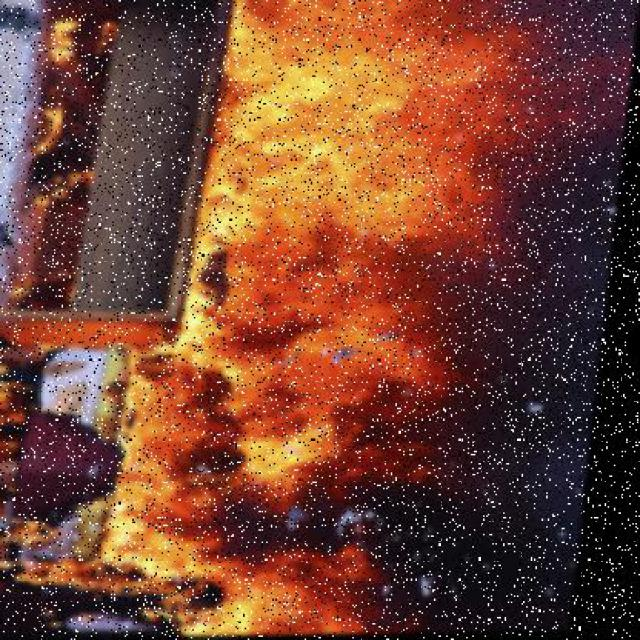fire: (107, 1, 493, 638)
